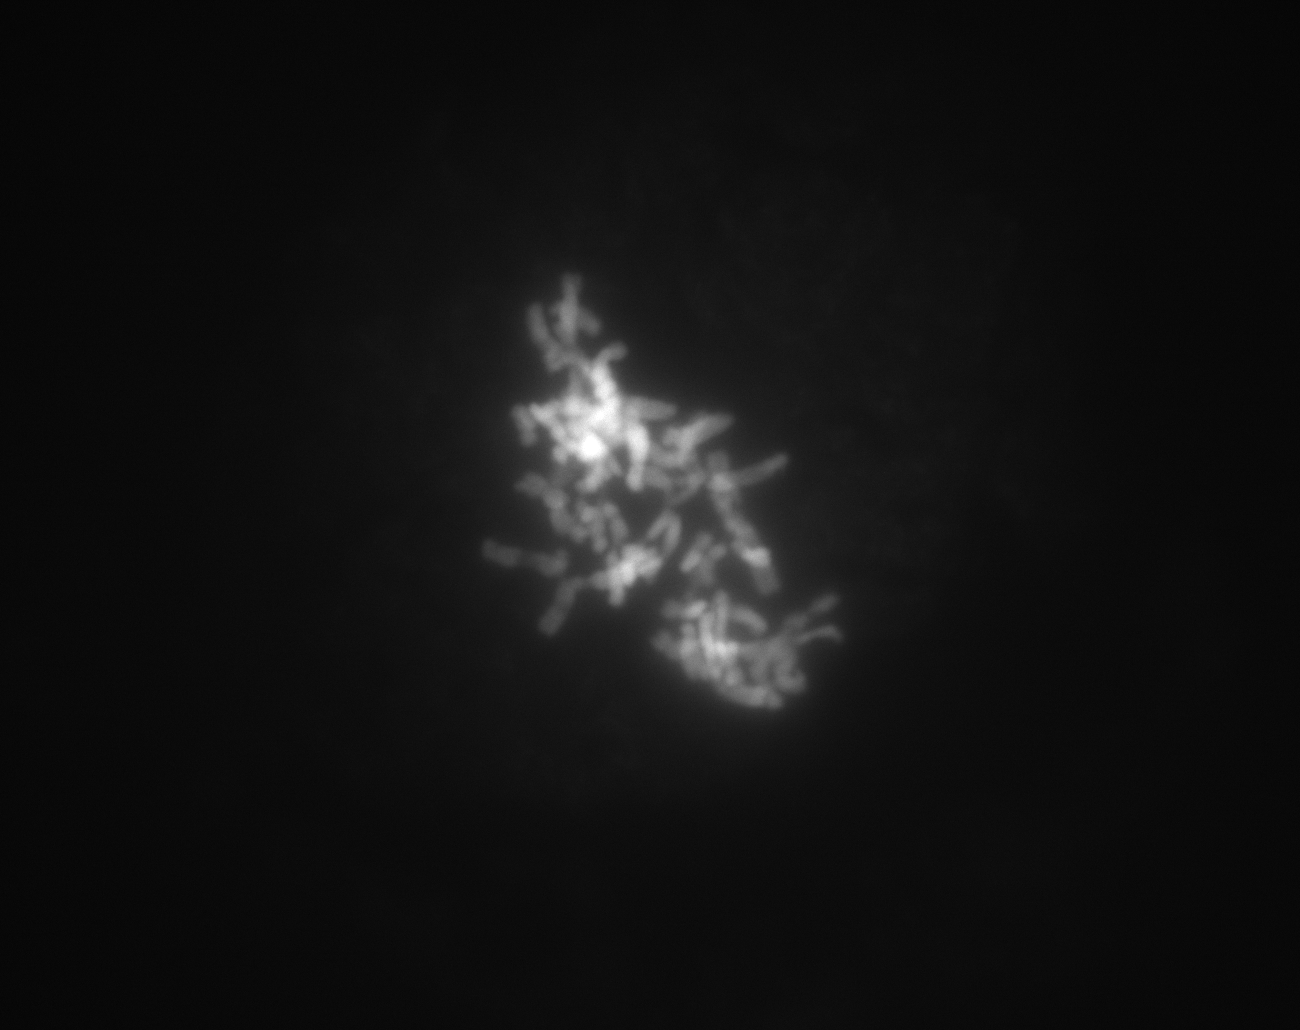Chromosomes: (436, 228, 905, 752)
